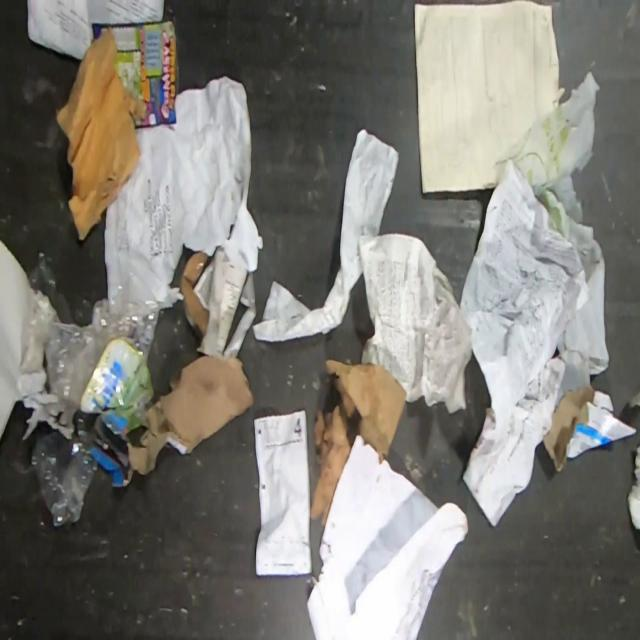cardboard: (55, 26, 146, 242), (309, 358, 408, 528), (543, 385, 638, 473), (180, 252, 214, 342)
soft_plastic: (20, 253, 160, 528), (509, 70, 611, 378)
